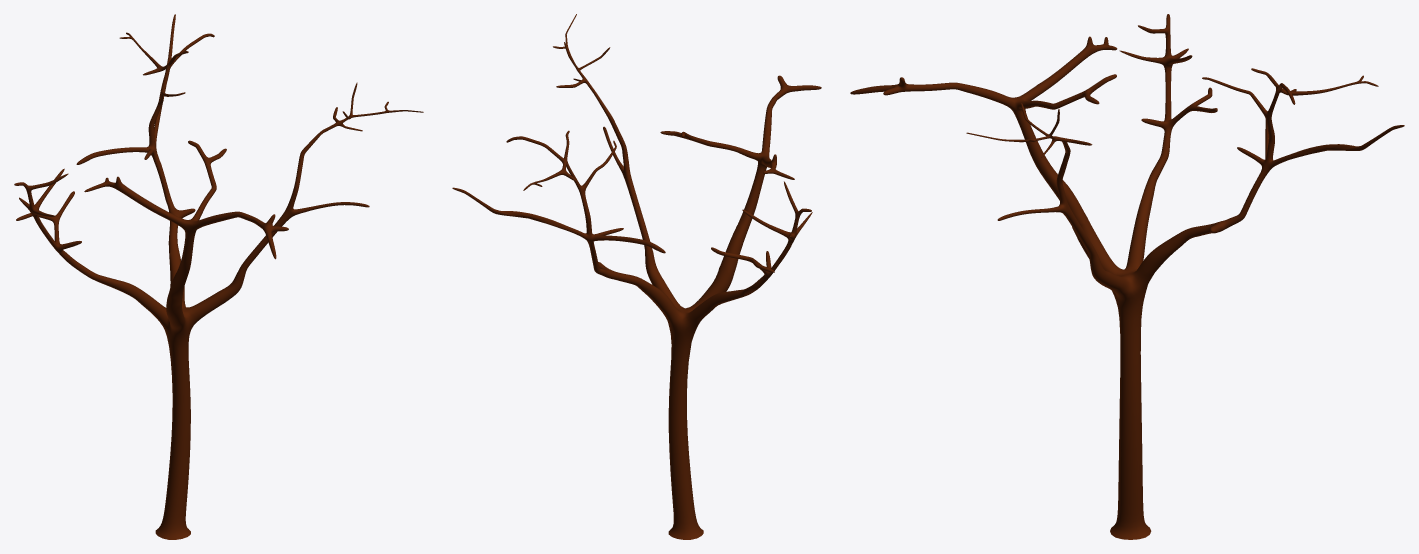
Rendered from tree_3D.glb.
3 views of the same model, side by side, from view 1: azimuth 30°, elevation 25°; view 2: azimuth 150°, elevation 25°; view 3: azimuth 270°, elevation 25° (orthographic). The views are drawn at different scales.
Parts seen in each view (by area): view 1: tree_3D; view 2: tree_3D; view 3: tree_3D.
Part boxes in pixels (x1,y1,x2,y2): tree_3D: (14,14,423,539); tree_3D: (452,14,821,539); tree_3D: (850,14,1404,539).
Bounding box in the file's own units: 4.32 × 5.55 × 5.46.
1 material, 1 textured.
